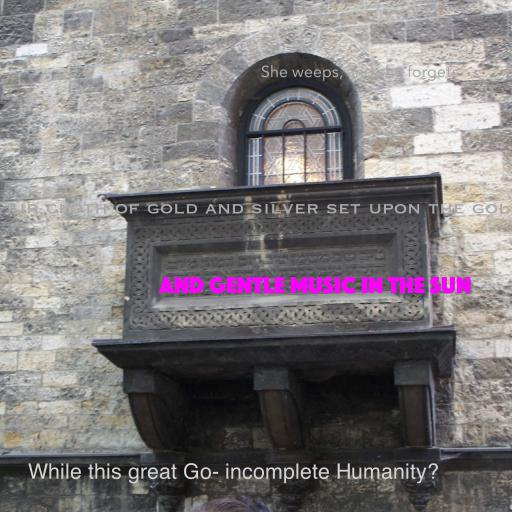Avenir: (261, 64, 459, 81)
Big Caslon: (27, 463, 439, 484)
Copperplate: (0, 201, 512, 214)
Phosphate: (159, 276, 471, 294)
